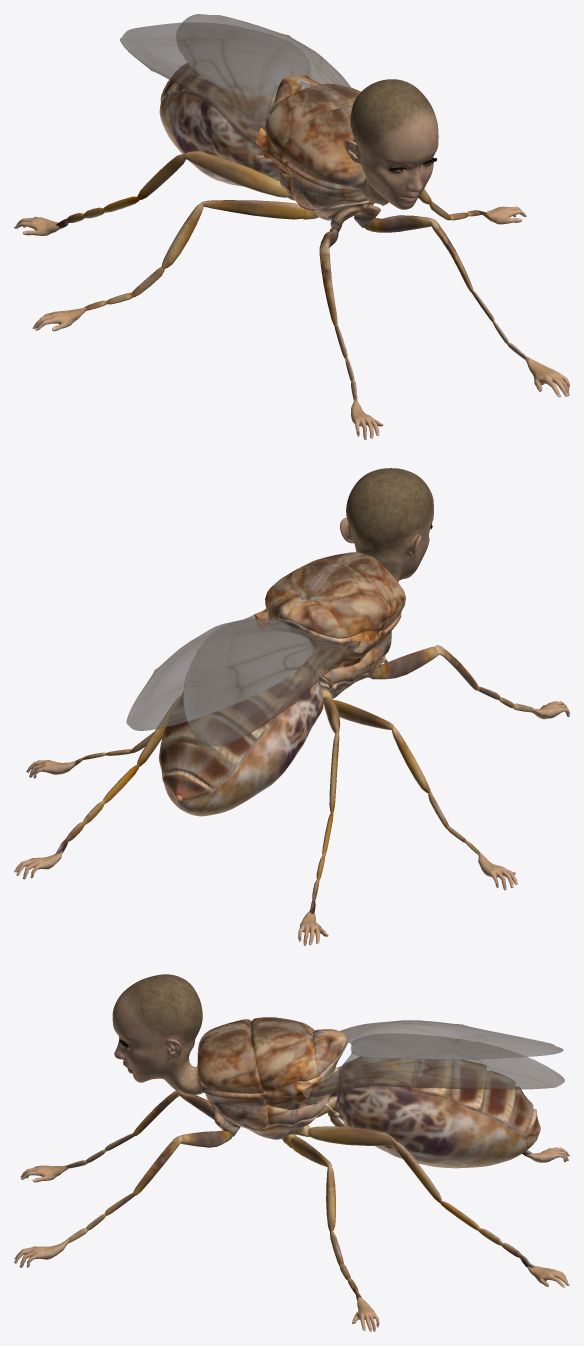
The model's file is flyer_draco.glb.
The picture shows the model from 3 angles, top to bottom: view 1: azimuth 30°, elevation 25°; view 2: azimuth 150°, elevation 25°; view 3: azimuth 270°, elevation 25°; orthographic projection. The views are drawn at different scales.
Parts seen in each view (by area): view 1: FLYER; view 2: FLYER; view 3: FLYER.
Part boxes in pixels (x1,y1,x2,y2): FLYER: (14,14,569,439); FLYER: (14,468,569,945); FLYER: (14,974,569,1331).
Bounding box in the file's own units: 9.61 × 5.21 × 10.56.
1 material, 1 textured.
